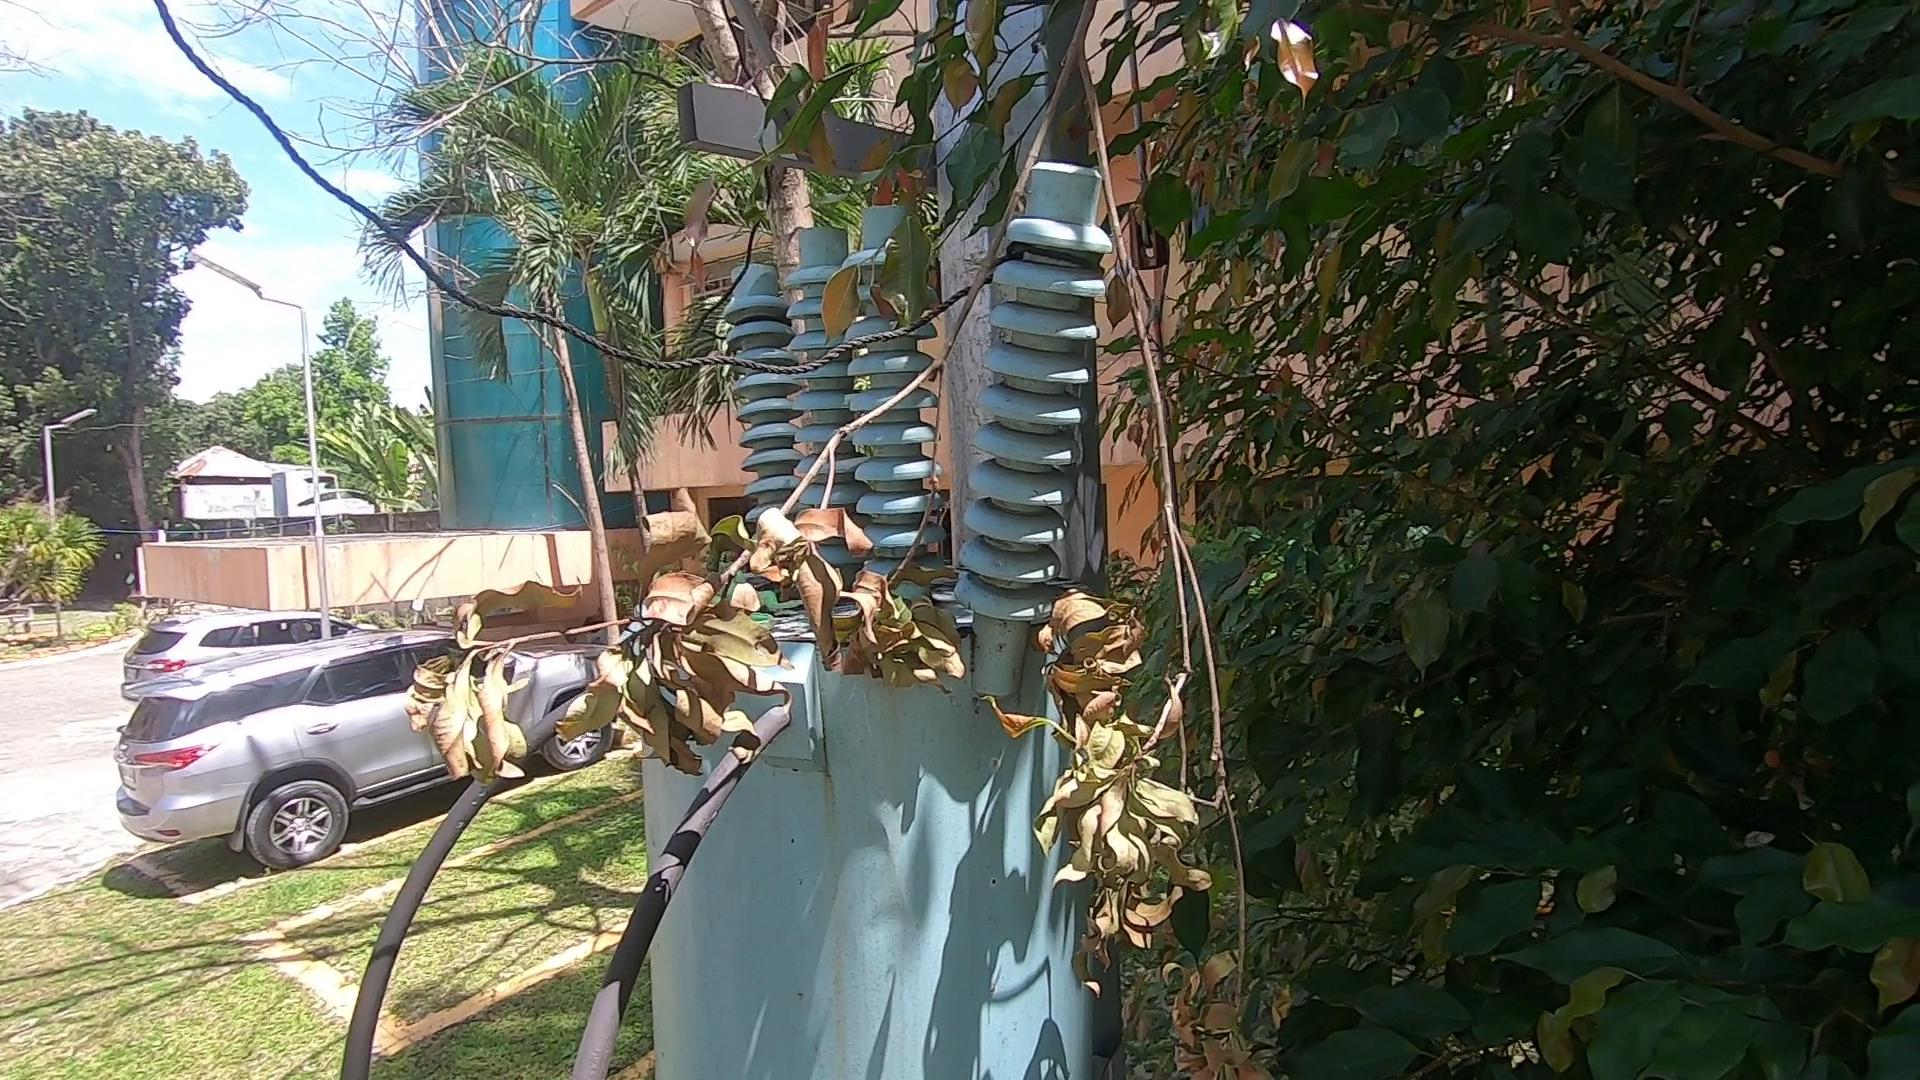branch with leaves: (340, 7, 1295, 1080)
